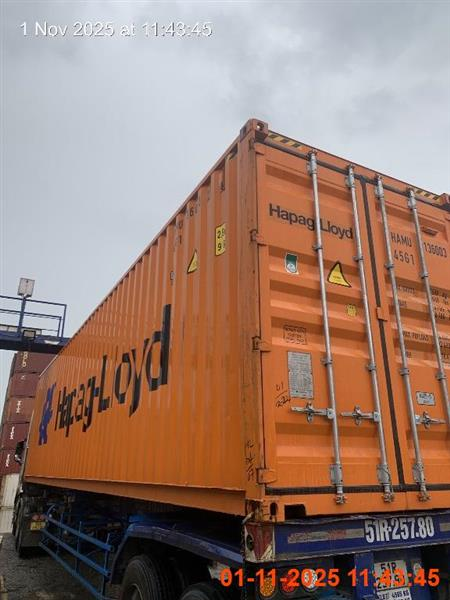broken: (5, 119, 448, 599)
